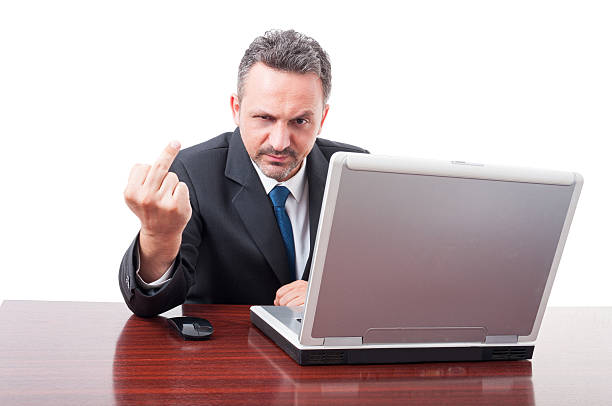insulting_gesture: (121, 137, 192, 243)
